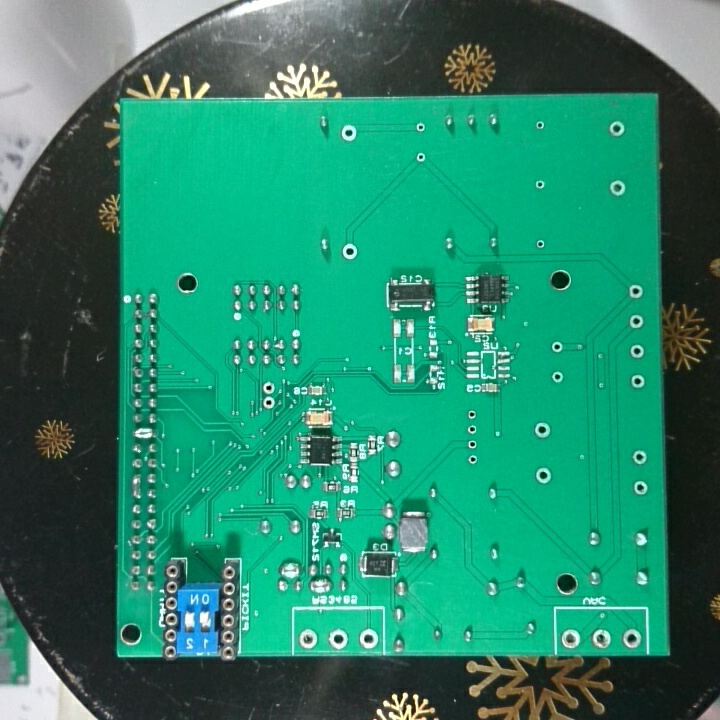F: (589, 626, 614, 652), (326, 627, 351, 652), (296, 626, 320, 652), (559, 626, 584, 649), (357, 625, 379, 651), (531, 464, 554, 488), (620, 627, 643, 651), (339, 120, 360, 144), (530, 418, 552, 440), (339, 240, 359, 263), (605, 118, 628, 138), (607, 175, 626, 199), (630, 477, 650, 499), (630, 446, 651, 466), (626, 280, 644, 301), (627, 341, 646, 360), (627, 312, 645, 331), (628, 372, 646, 391), (548, 367, 567, 385), (548, 338, 565, 356), (259, 395, 277, 412), (260, 378, 277, 395), (532, 234, 548, 252), (465, 452, 481, 469), (531, 118, 547, 134), (532, 177, 547, 194), (465, 436, 479, 452), (414, 118, 428, 133), (465, 406, 479, 421), (465, 422, 479, 436), (414, 149, 427, 163)
P: (277, 558, 303, 578), (306, 577, 332, 595), (129, 472, 144, 500), (130, 426, 156, 441)
